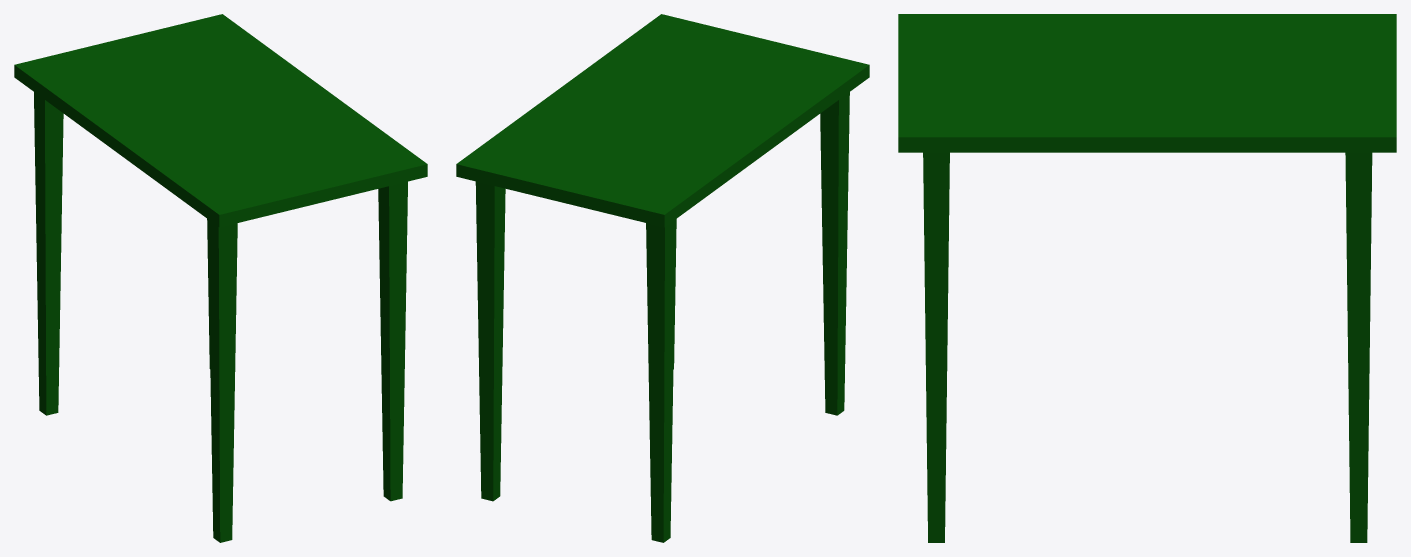
Rendered from Structure07.FBX.
3 renders of one model, left to right at view 1: azimuth 30°, elevation 25°; view 2: azimuth 150°, elevation 25°; view 3: azimuth 270°, elevation 25°, orthographic. The views are drawn at different scales.
Parts seen in each view (by area): view 1: SM_structure07_0; view 2: SM_structure07_0; view 3: SM_structure07_0.
Boxes of the visible parts, x1,y1,x2,y2 form: SM_structure07_0: [14, 14, 427, 542]; SM_structure07_0: [456, 14, 869, 542]; SM_structure07_0: [898, 14, 1396, 542].
Bounding box in the file's own units: 52 × 88.72 × 81.15.
